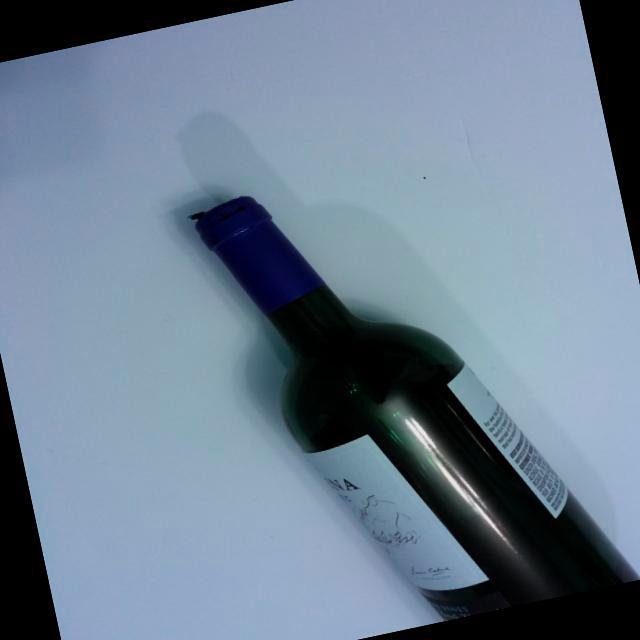glass: (178, 118, 640, 640)
